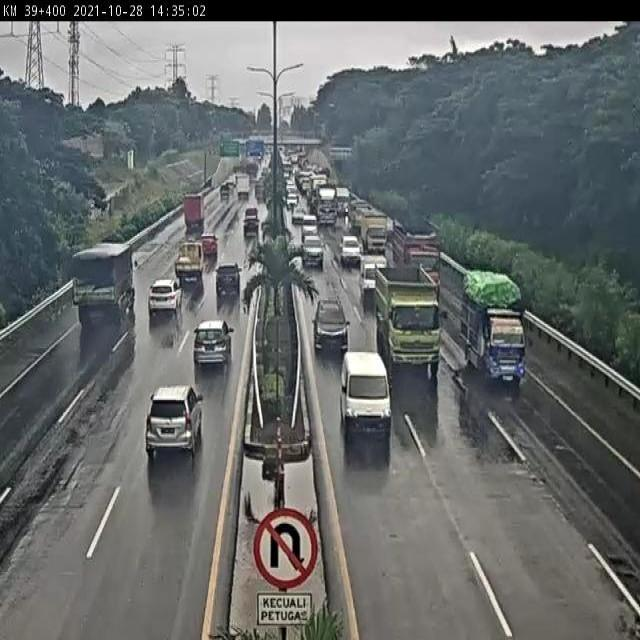big truck: (61, 225, 143, 348), (377, 267, 438, 369), (392, 227, 443, 272)
car: (119, 382, 207, 498), (181, 312, 241, 392), (341, 354, 395, 442), (138, 272, 181, 333), (213, 258, 246, 318), (317, 297, 352, 353), (351, 251, 388, 297), (191, 237, 218, 279), (299, 230, 325, 270), (236, 220, 262, 253), (337, 236, 357, 265)
small truck: (459, 269, 528, 382), (159, 249, 199, 307), (175, 193, 212, 244), (359, 215, 385, 253)
